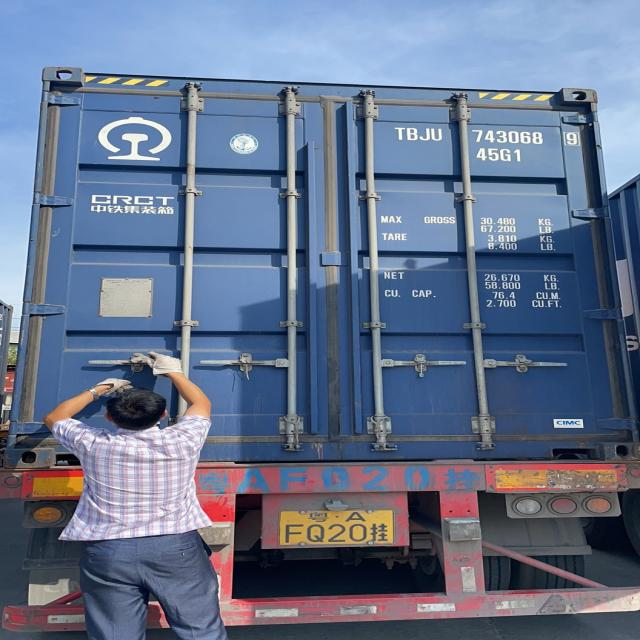seal: (410, 349, 431, 381)
